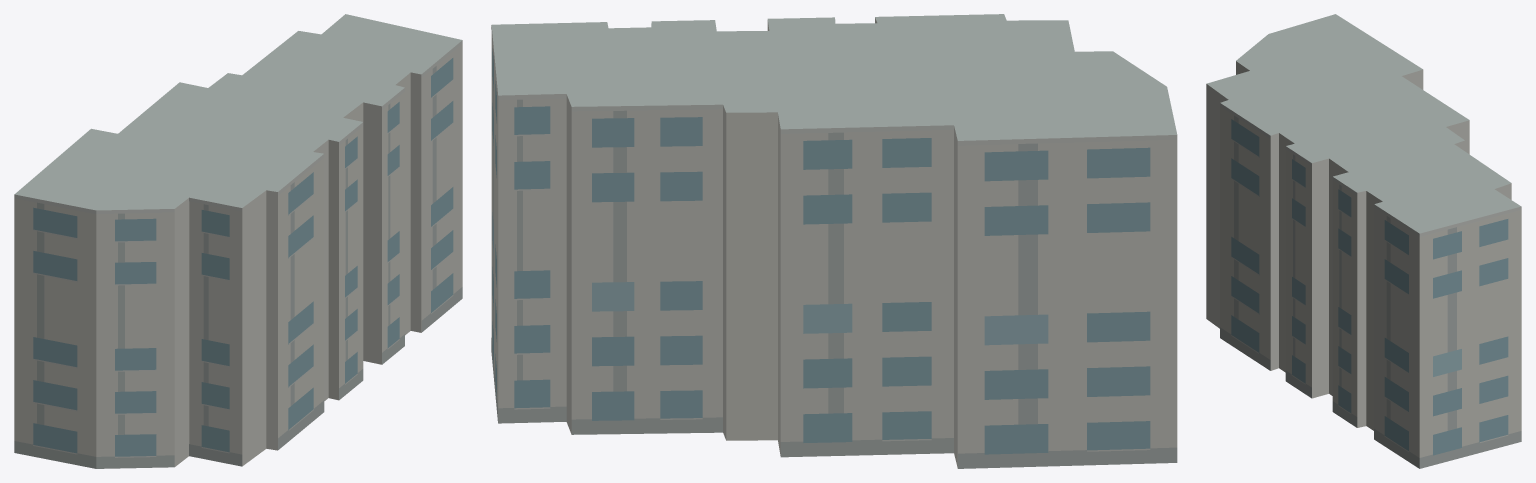
Rendered from survey-upis-32804010.glb.
3 renders of one model, left to right at view 1: azimuth 30°, elevation 25°; view 2: azimuth 150°, elevation 25°; view 3: azimuth 270°, elevation 25°, orthographic. The views are drawn at different scales.
Visible parts, largest first — view 1: survey-upis-32804010.tmp; view 2: survey-upis-32804010.tmp; view 3: survey-upis-32804010.tmp.
Boxes of the visible parts, x1,y1,x2,y2 form: survey-upis-32804010.tmp: (14,14,462,468); survey-upis-32804010.tmp: (491,14,1177,468); survey-upis-32804010.tmp: (1206,14,1521,468).
Bounding box in the file's own units: 33.84 × 16.9 × 20.52.
